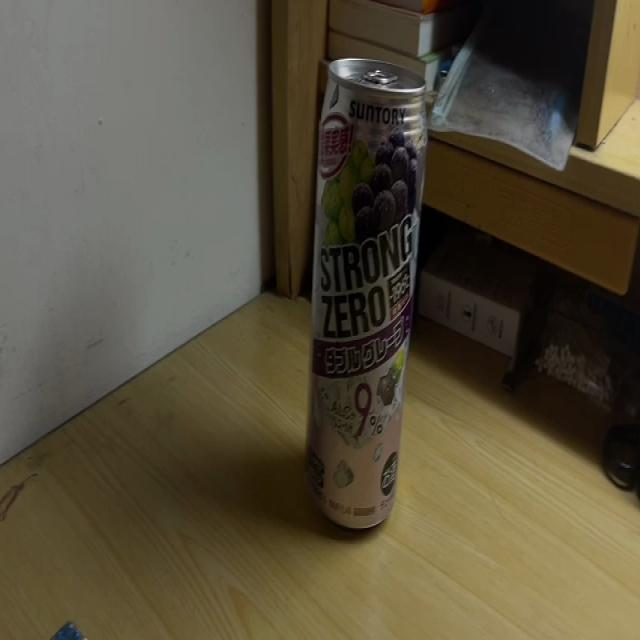Liquor: (304, 55, 426, 537)
